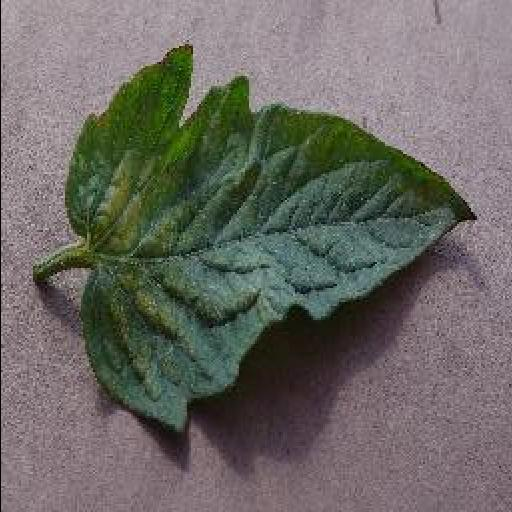disease_tomato: (65, 46, 479, 434)
